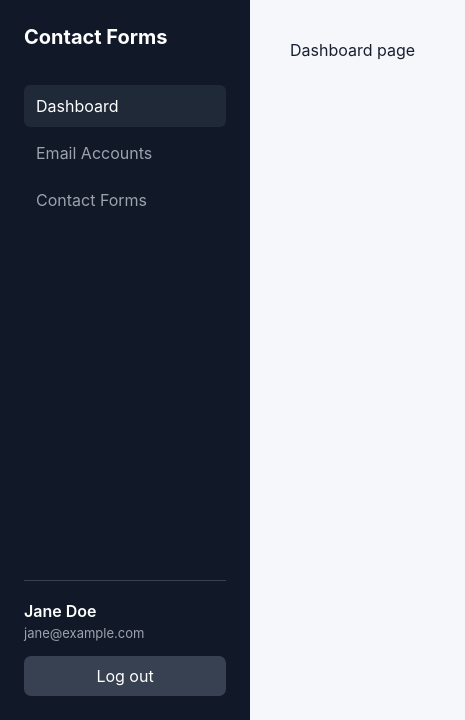
Layout › navigates when a navigation link is clicked
Click the link "Email Accounts" at (94, 153), box [36,143,152,163]
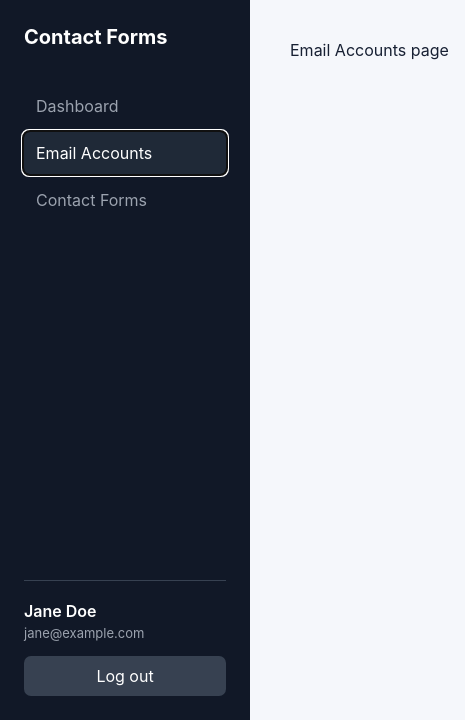
Expected: the text "Email Accounts page" is shown, [290,40,449,60]
